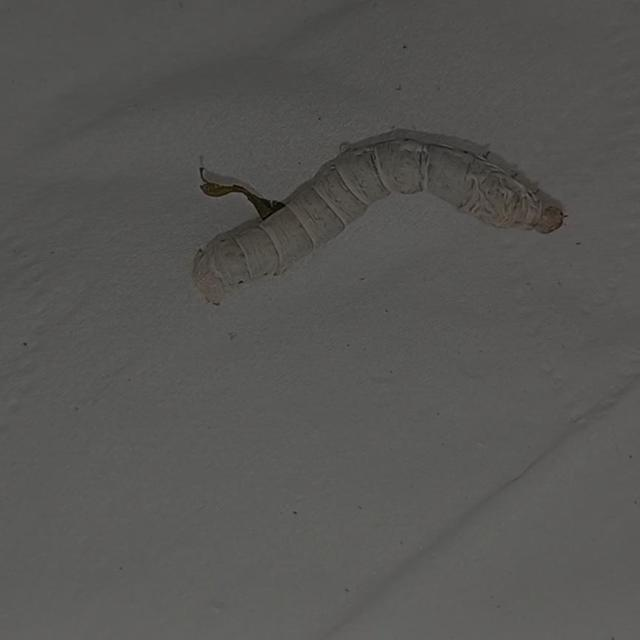Healthy: (166, 108, 597, 314)
